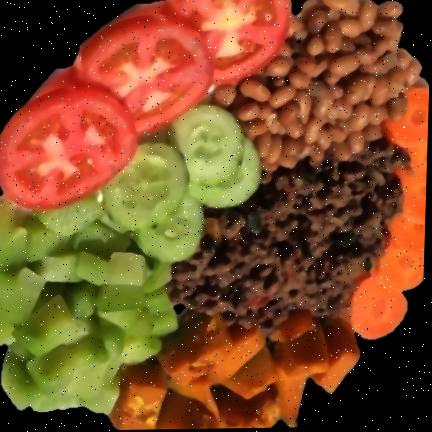beans: (210, 0, 421, 175)
carrot: (339, 83, 429, 342), (348, 76, 429, 337)
cucumber: (36, 96, 261, 263)
green_vegetables: (0, 204, 179, 418)
meat: (171, 135, 410, 333)
tomato: (0, 0, 296, 213)
